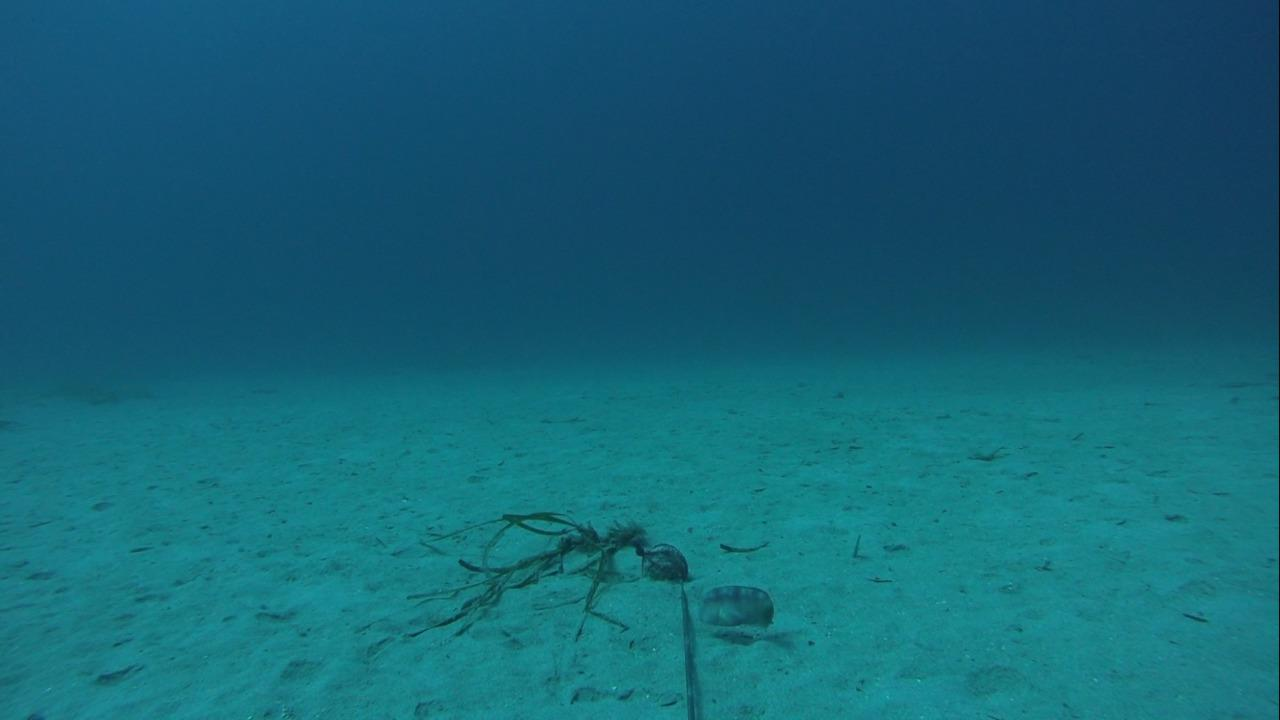raor: (694, 579, 778, 637)
